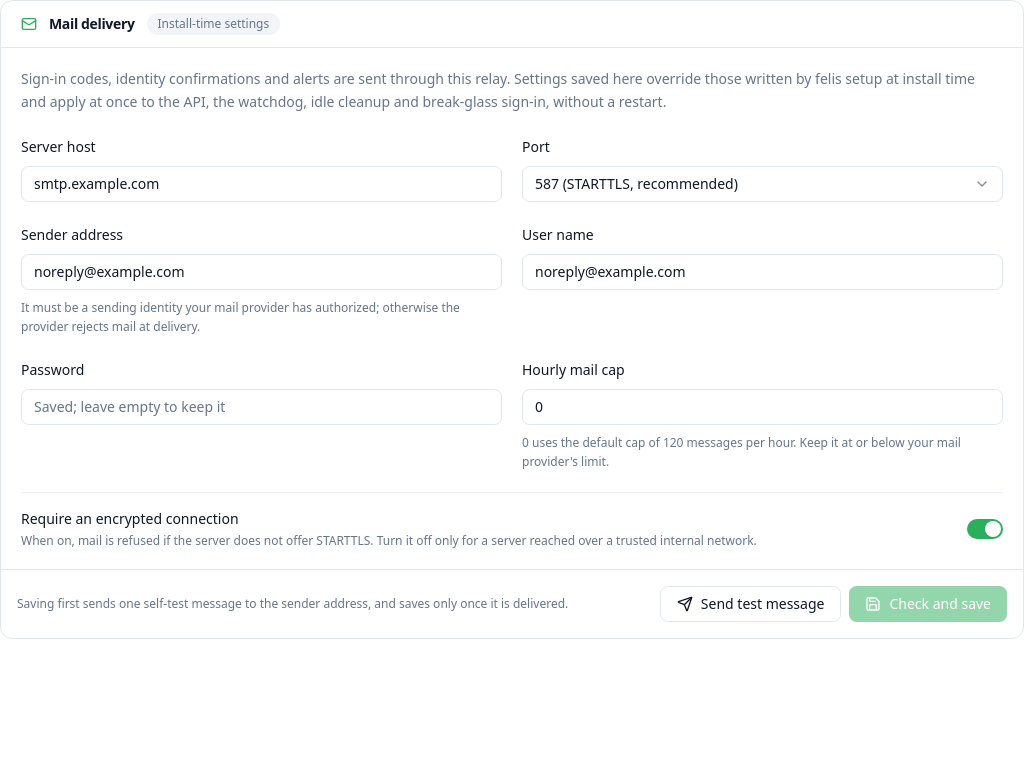
mail settings › shows where the relay comes from and keeps the stored password unless one is typed
The image size is (1024, 768).
Expected: the text "Install-time settings" is shown, left=146, top=13, right=280, bottom=35
Expected: the button "Check and save" is disabled, left=849, top=586, right=1007, bottom=622
Type "mail.example.org" into the field labelled "Server host".
click(262, 184); type("mail.example.org")  # box left=21, top=166, right=502, bottom=202
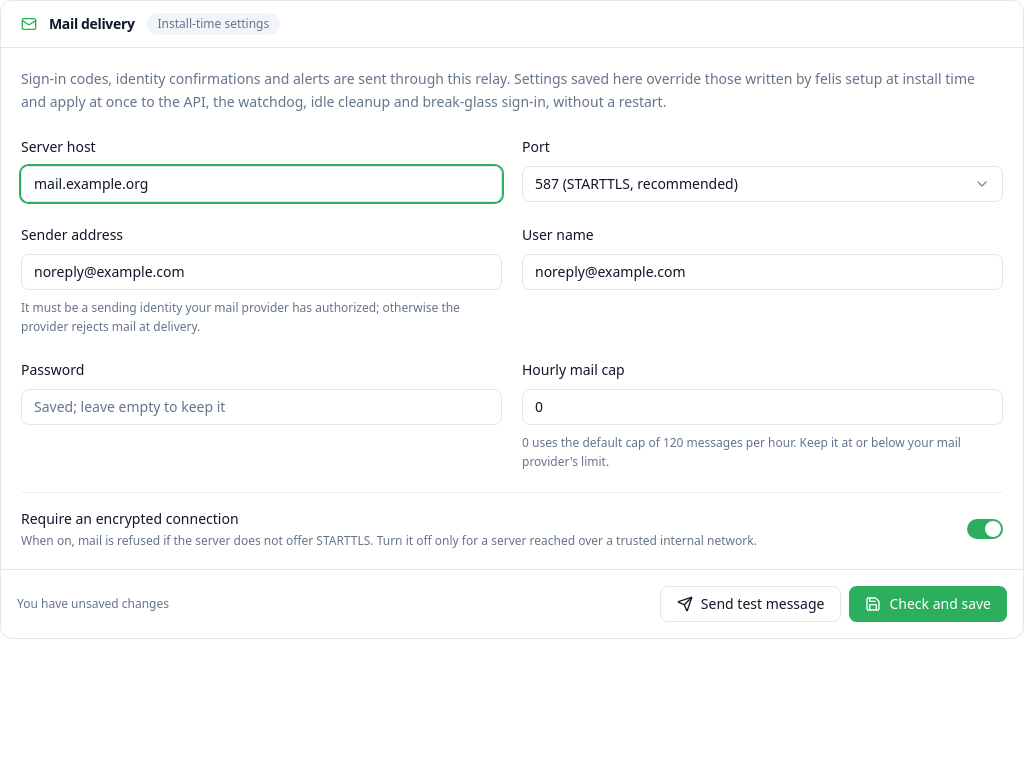
Expected: the text "You have unsaved changes" is shown, left=17, top=596, right=169, bottom=612
Click the button "Check and save".
click(928, 604)  # box left=849, top=586, right=1007, bottom=622
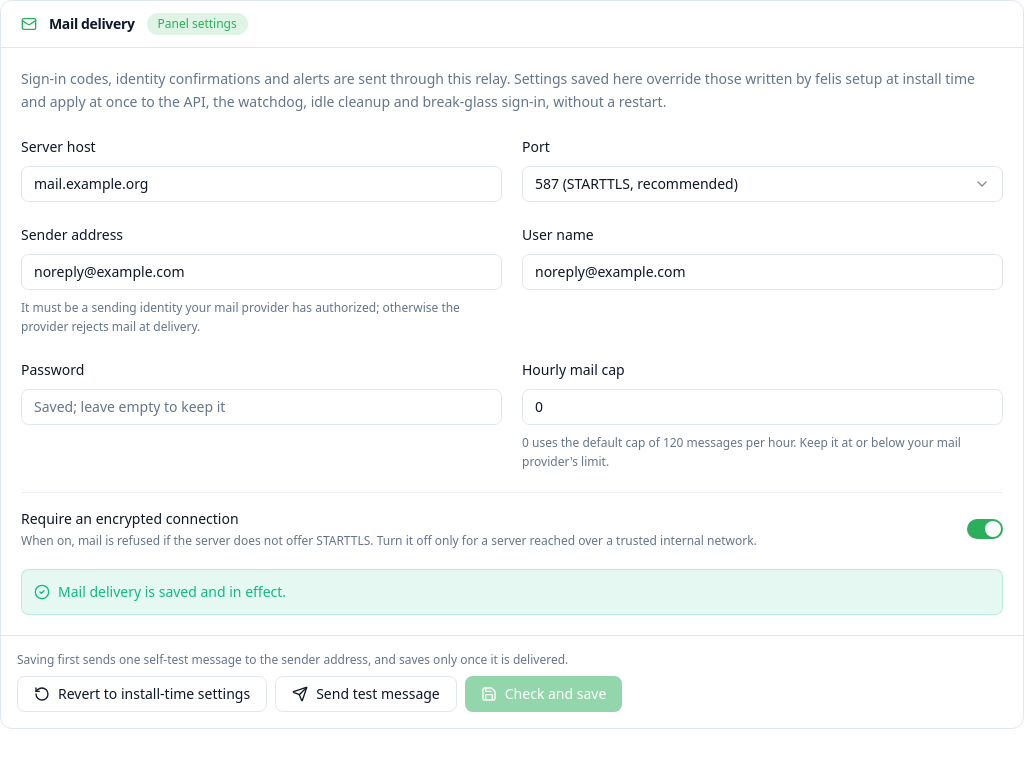
Expected: the text "Mail delivery is saved and in effect." is shown, left=58, top=582, right=286, bottom=602
Expected: the text "Panel settings" is shown, left=146, top=13, right=248, bottom=35
